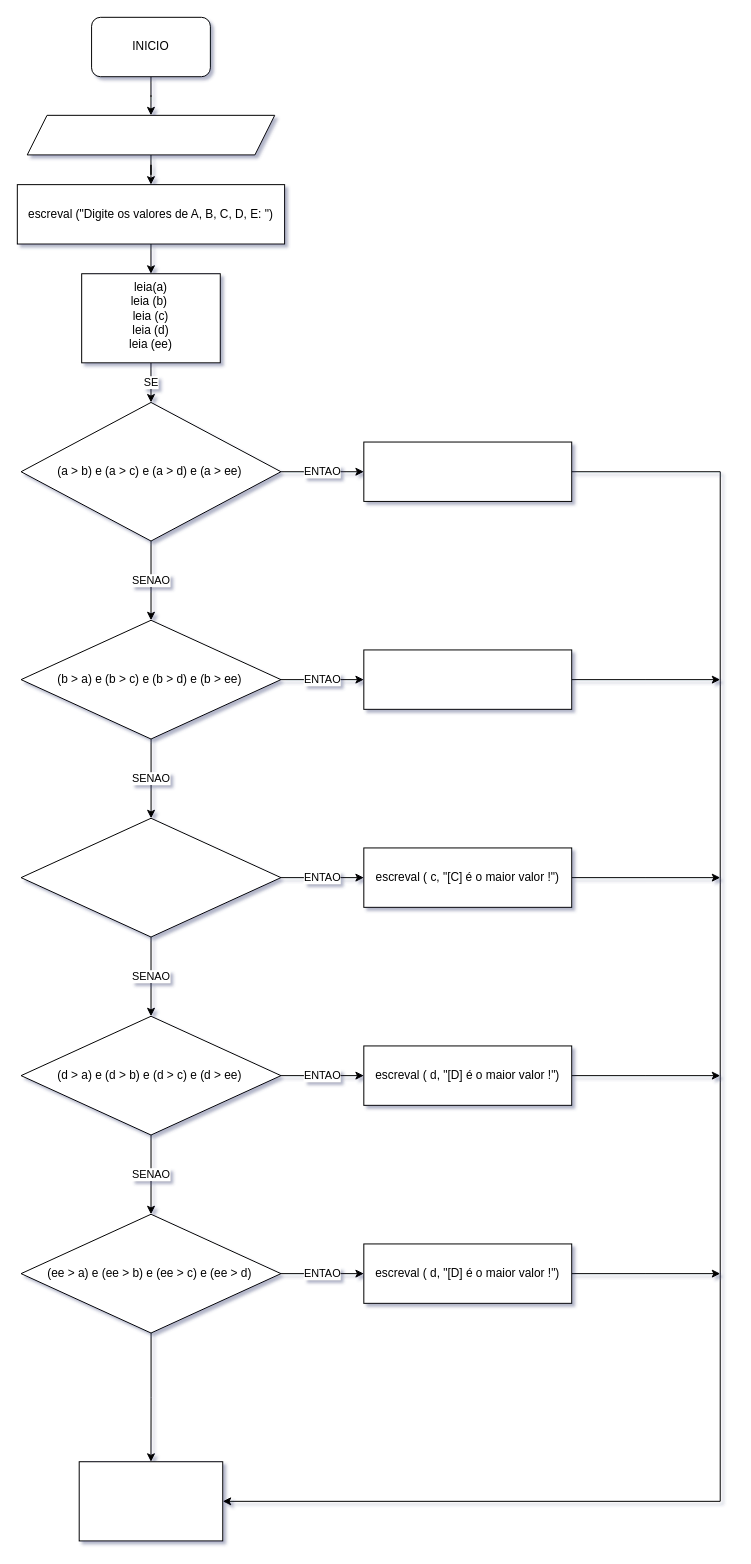
The diagram is 751 pixels wide and 1564 high, and some of its shapes have lost their labels. The centre of each missing label's shape, as x and y in pixels:
(c > a) e (c > b) e (c > d) e (c > ee): point 150,877
a, b, c, d, ee, media : real p1, p2, p3, p4, p5, mediap : real: point 150,134
escreval ( a, "[A] é o maior valor !"): point 467,471
escreval ( b, "[B] é o maior valor !"): point 467,679
FIMSE: point 150,1501
